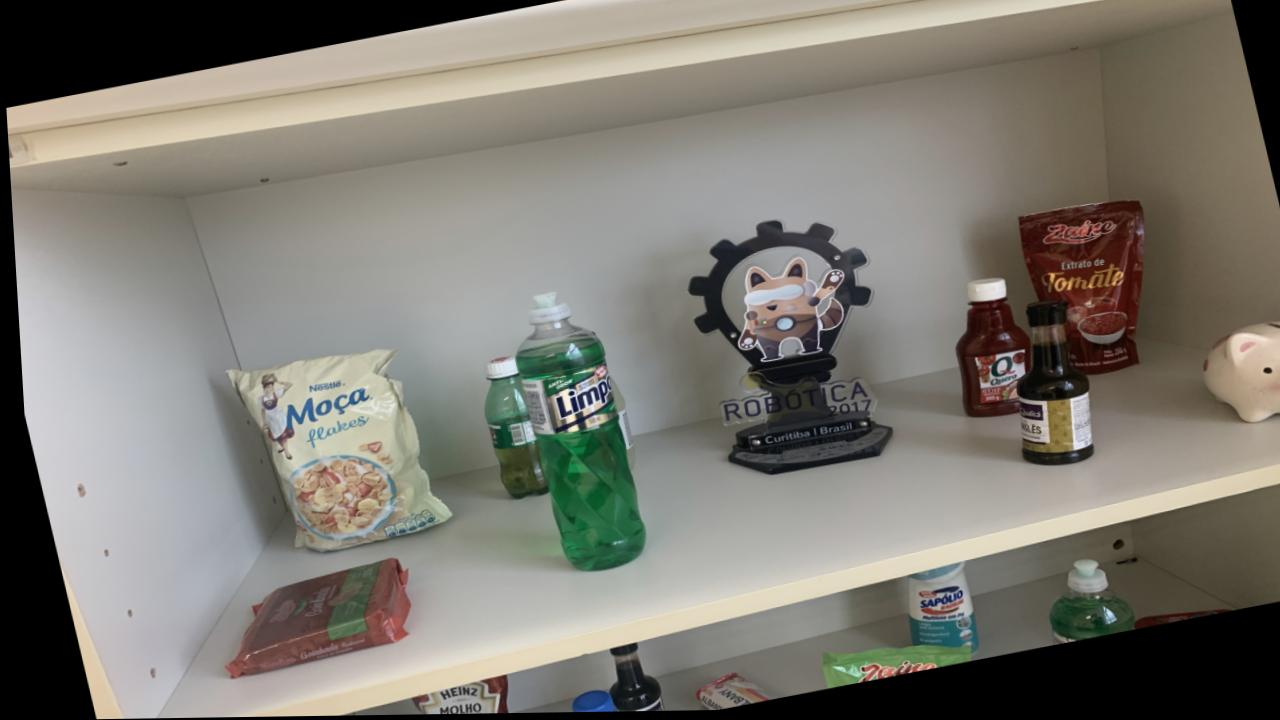Cleaner-Cleanup_Items: (899, 565, 970, 653)
Detergent-Cleanup_Items: (510, 294, 638, 572), (1040, 562, 1127, 647)
English_Sauce-Pantry_Items: (1011, 302, 1089, 468), (600, 644, 656, 713)
Flakes-Snacks: (223, 350, 444, 552)
Guarana-Drinks: (478, 357, 542, 499)
Guava-Snacks: (218, 559, 403, 678)
Ketchup-Pantry_Items: (950, 280, 1025, 420)
Pig_Safe-Miscellaneous: (1198, 326, 1280, 426)
Soap-Cleanup_Items: (685, 674, 760, 712)
Tomato_Sauce-Pantry_Items: (1015, 204, 1141, 377), (813, 647, 963, 690), (403, 677, 499, 716)
Trophy-Miscellaneous: (684, 222, 887, 476)
Tuna_Can-Pantry_Items: (1125, 611, 1222, 632)
Water_Bottle-Drinks: (563, 691, 608, 714)
